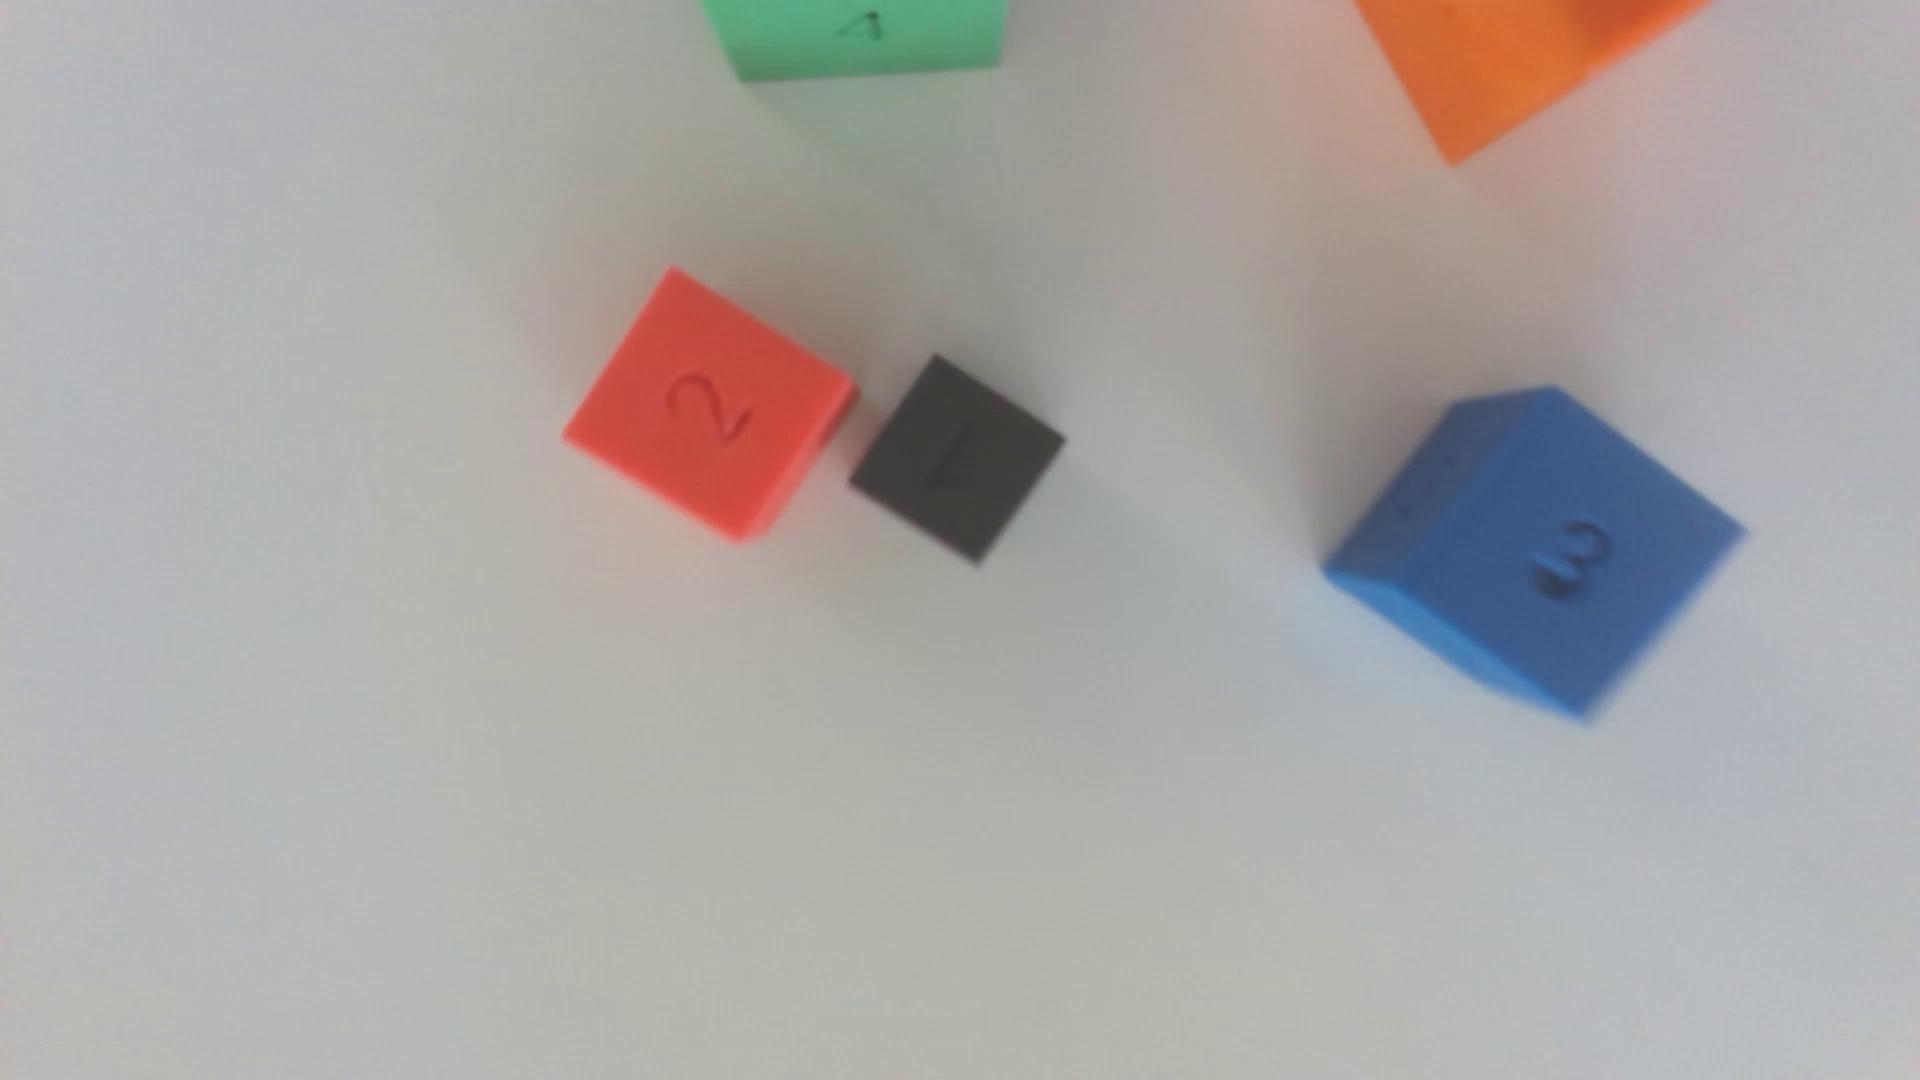black: (849, 355, 1065, 563)
blue: (1324, 386, 1743, 717)
green: (702, 0, 1009, 82)
orange: (1356, 0, 1702, 162)
red: (564, 266, 857, 541)
